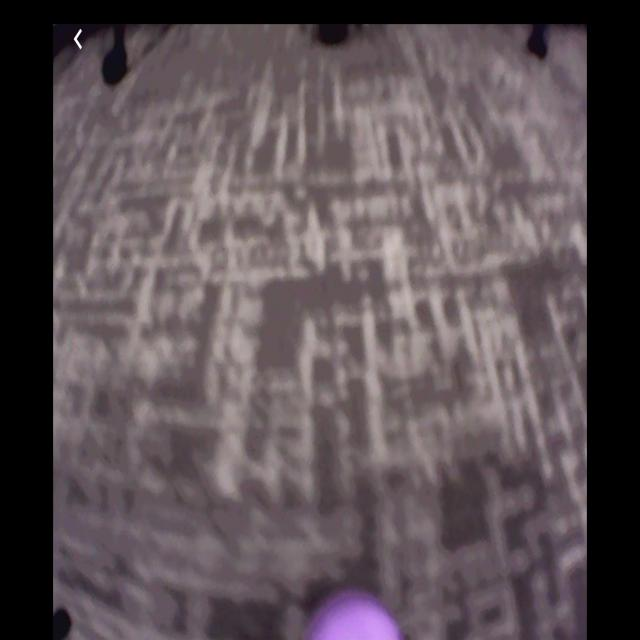ball: (307, 597, 406, 640)
